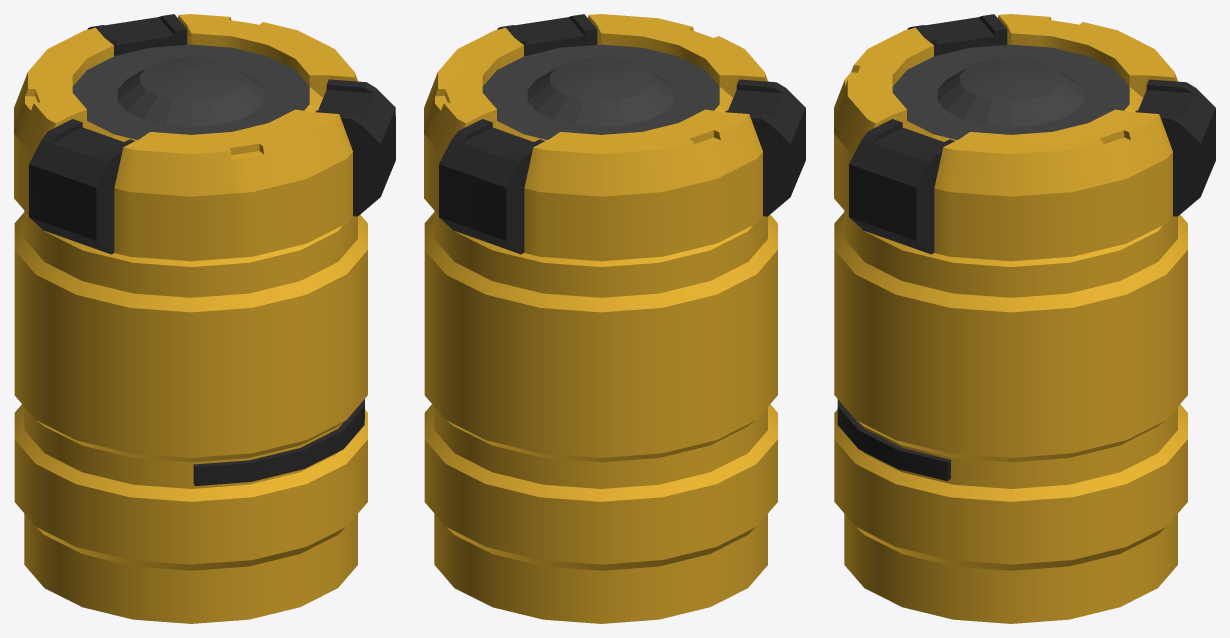
Rendered from Barrel.fbx.
3 views of the same model, side by side, from view 1: azimuth 30°, elevation 25°; view 2: azimuth 150°, elevation 25°; view 3: azimuth 270°, elevation 25° (orthographic).
Parts seen in each view (by area): view 1: Barrel_Base, Barrel_Lid, Barrel_Handles; view 2: Barrel_Base, Barrel_Lid, Barrel_Handles; view 3: Barrel_Base, Barrel_Lid, Barrel_Handles.
Part boxes in pixels (x1,y1,x2,y2): Barrel_Base: (14,211,367,623); Barrel_Lid: (14,14,358,261); Barrel_Handles: (29,14,395,254); Barrel_Base: (424,211,777,623); Barrel_Lid: (424,14,768,261); Barrel_Handles: (439,14,805,254); Barrel_Base: (834,211,1187,623); Barrel_Lid: (834,14,1177,261); Barrel_Handles: (849,14,1215,254).
Bounding box in the file's own units: 0.6978 × 0.9549 × 0.6929.
